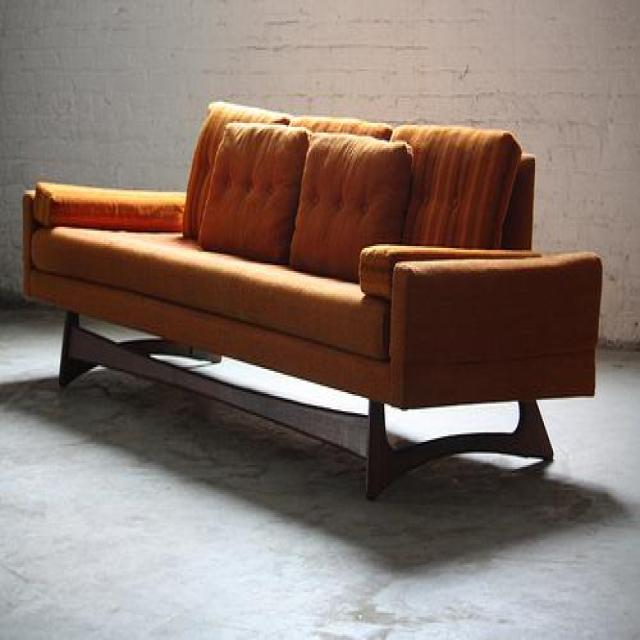sofa: (20, 98, 603, 500)
